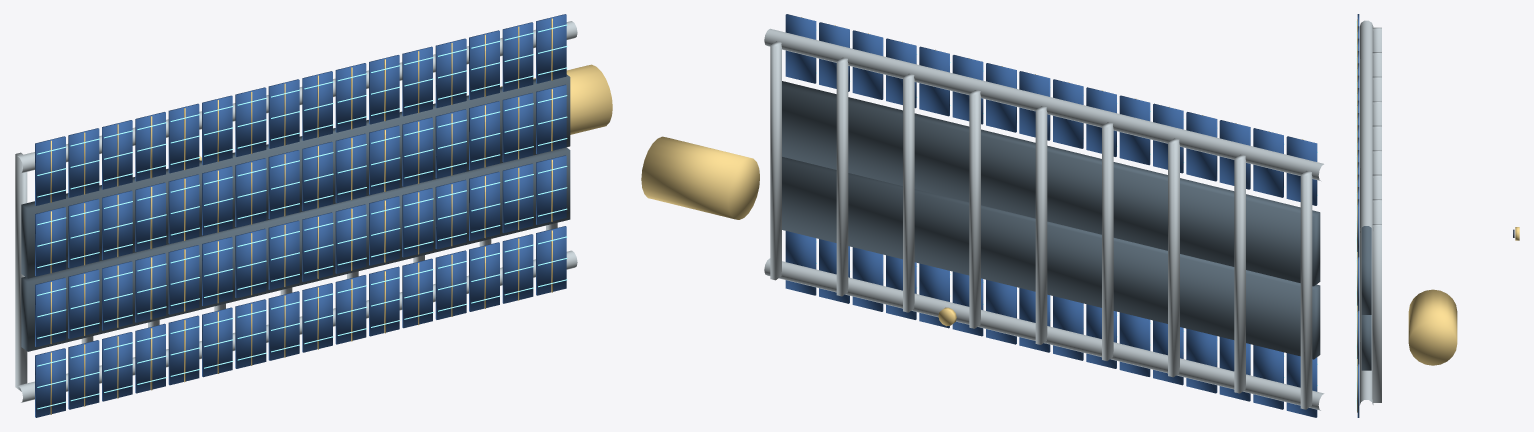
File: 08_L84_PortSolarArrayWing.glb
3 renders of one model, left to right at view 1: azimuth 30°, elevation 25°; view 2: azimuth 150°, elevation 25°; view 3: azimuth 270°, elevation 25°, orthographic. The views are drawn at different scales.
Visible parts, largest first — view 1: L84_PortSolarArrayWing; view 2: L84_PortSolarArrayWing; view 3: L84_PortSolarArrayWing.
Part boxes in pixels (x1,y1,x2,y2): L84_PortSolarArrayWing: (15,14,612,417); L84_PortSolarArrayWing: (641,14,1324,417); L84_PortSolarArrayWing: (1356,14,1457,417).
Bounding box in the file's own units: 5.16 × 2.17 × 1.55.
